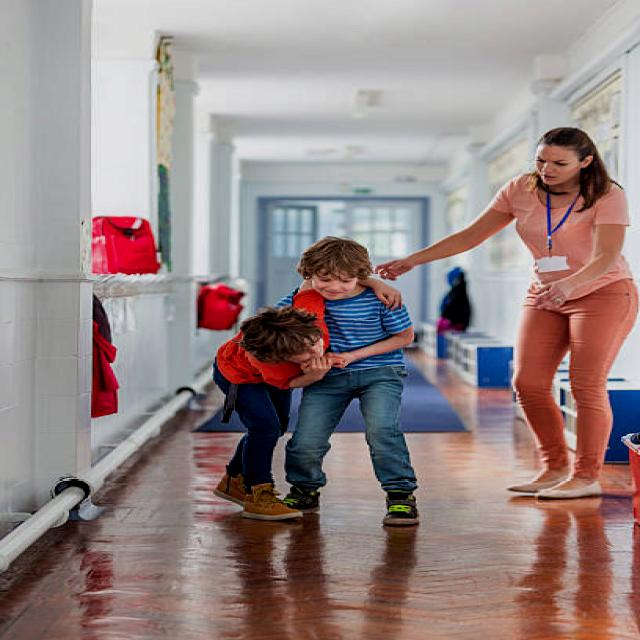fight: (205, 232, 422, 533)
